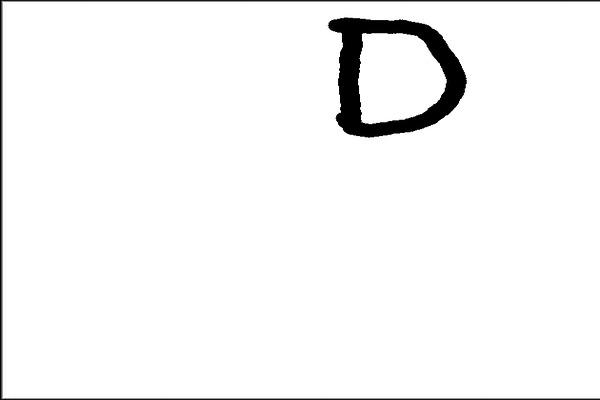D: (324, 11, 470, 142)
